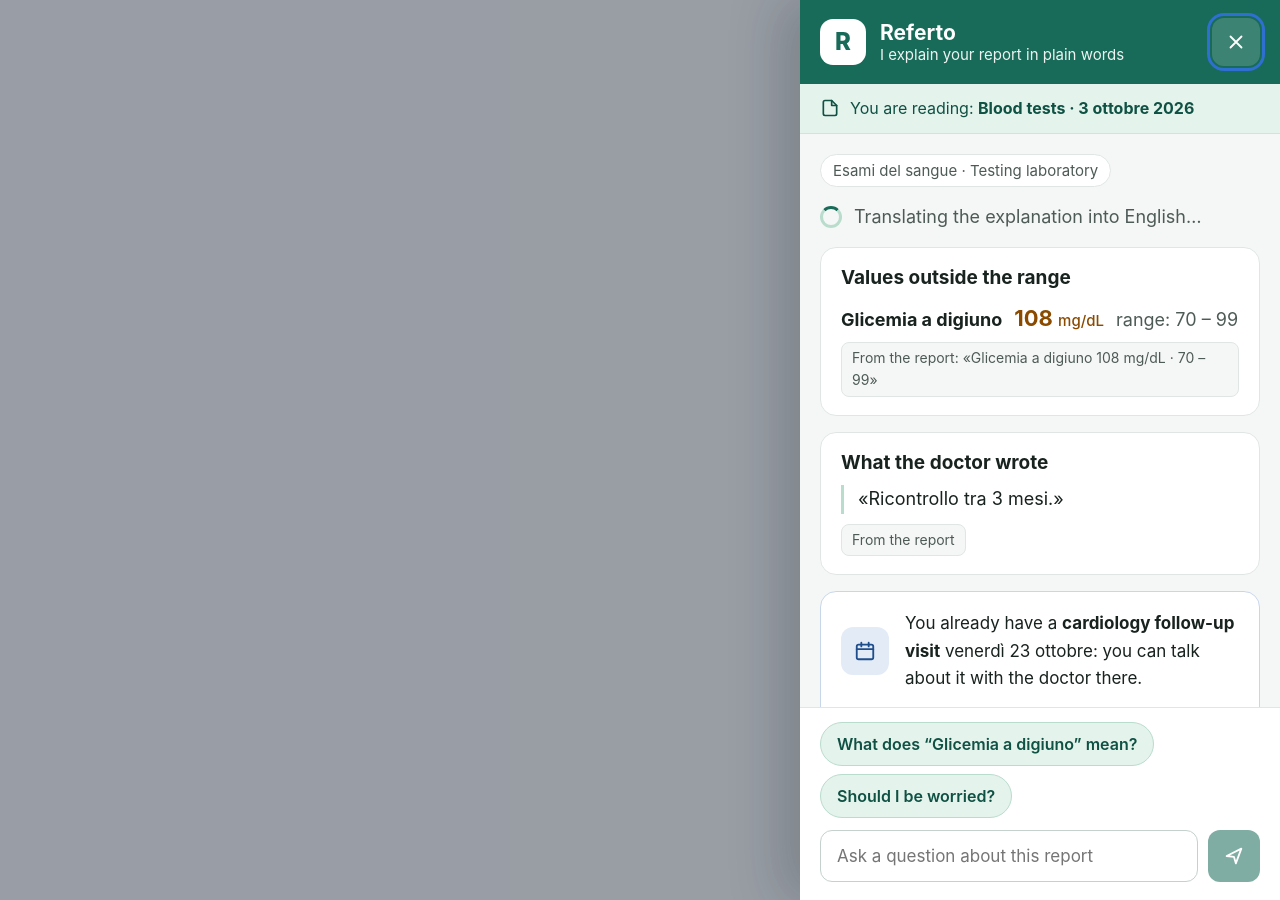
WidgetReferto › in inglese › la domanda scritta in inglese si traduce in italiano prima di andare al Mother agent
Type "What does glicemia mean?" into the field with placeholder "Ask a question about this report" at (1009, 856), box [820, 830, 1198, 882]
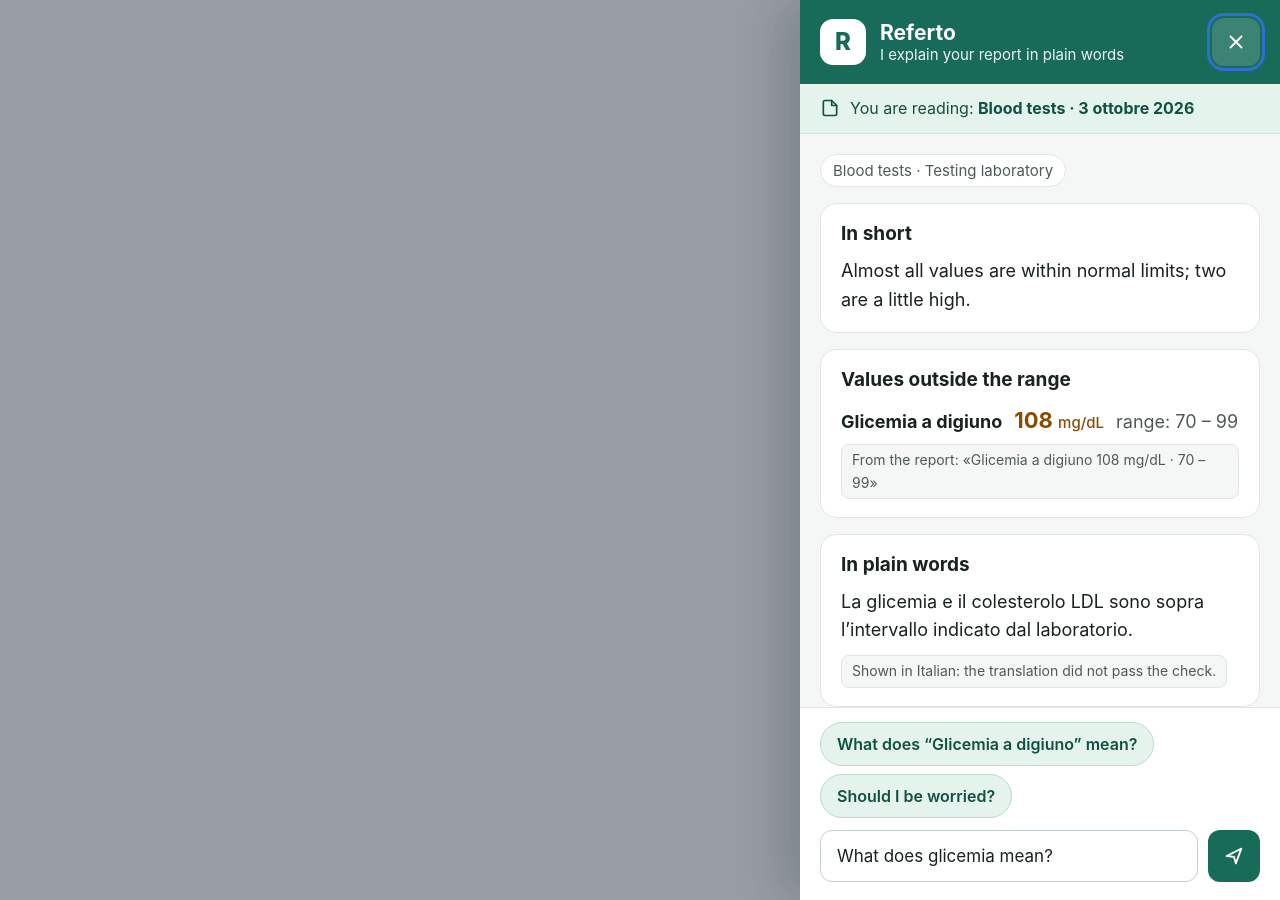
Submit the form with placeholder "Ask a question about this report", box [820, 830, 1260, 882]
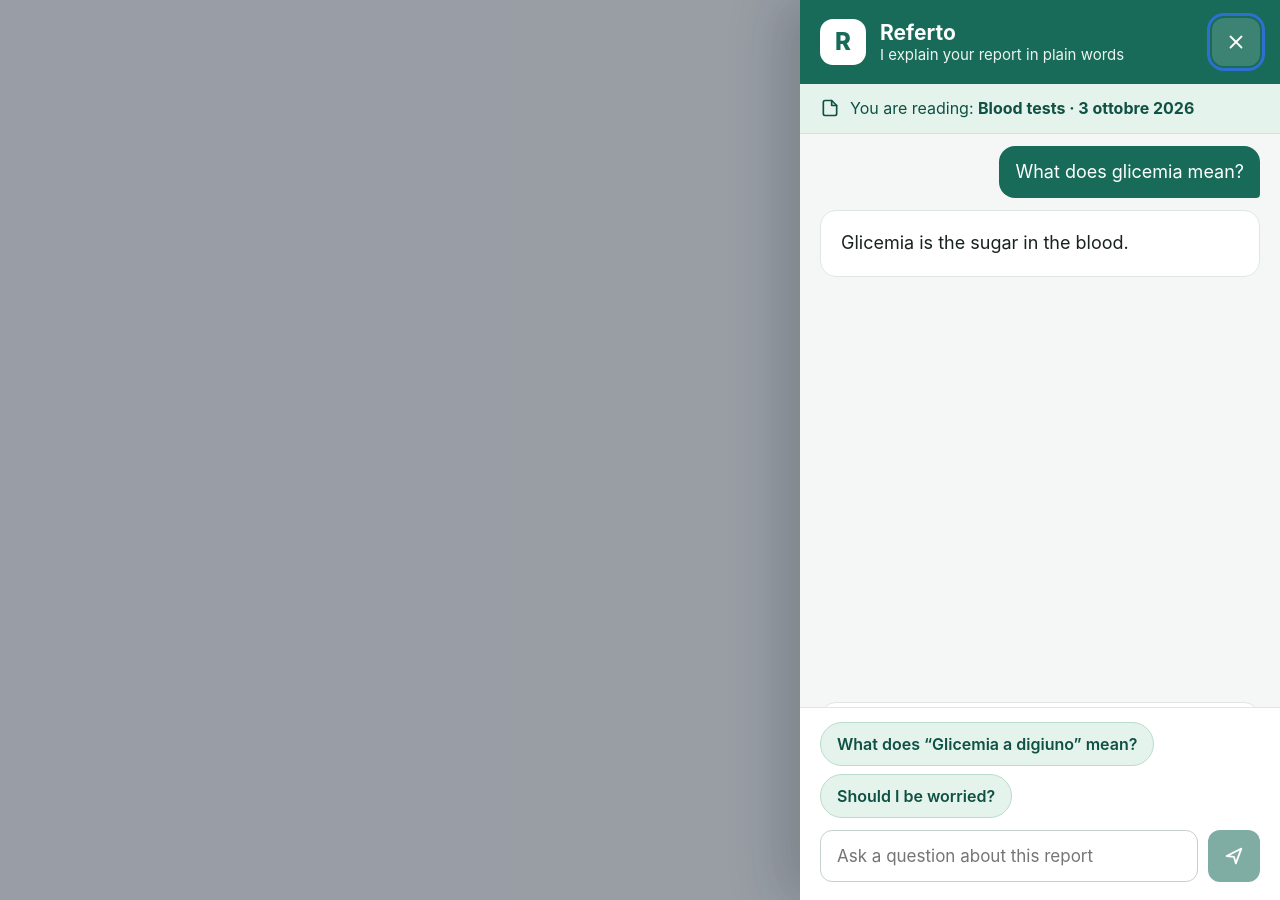
Check: the text "Glicemia is the sugar in the blood." is shown, box [841, 232, 1129, 253]
Check: the text "What does glicemia mean?" is shown, box [1000, 146, 1260, 198]
